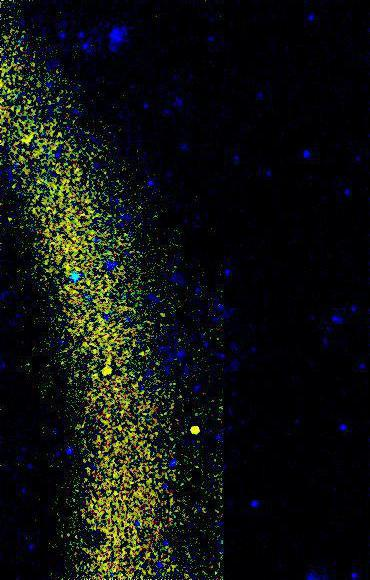star: (179, 414, 209, 444)
